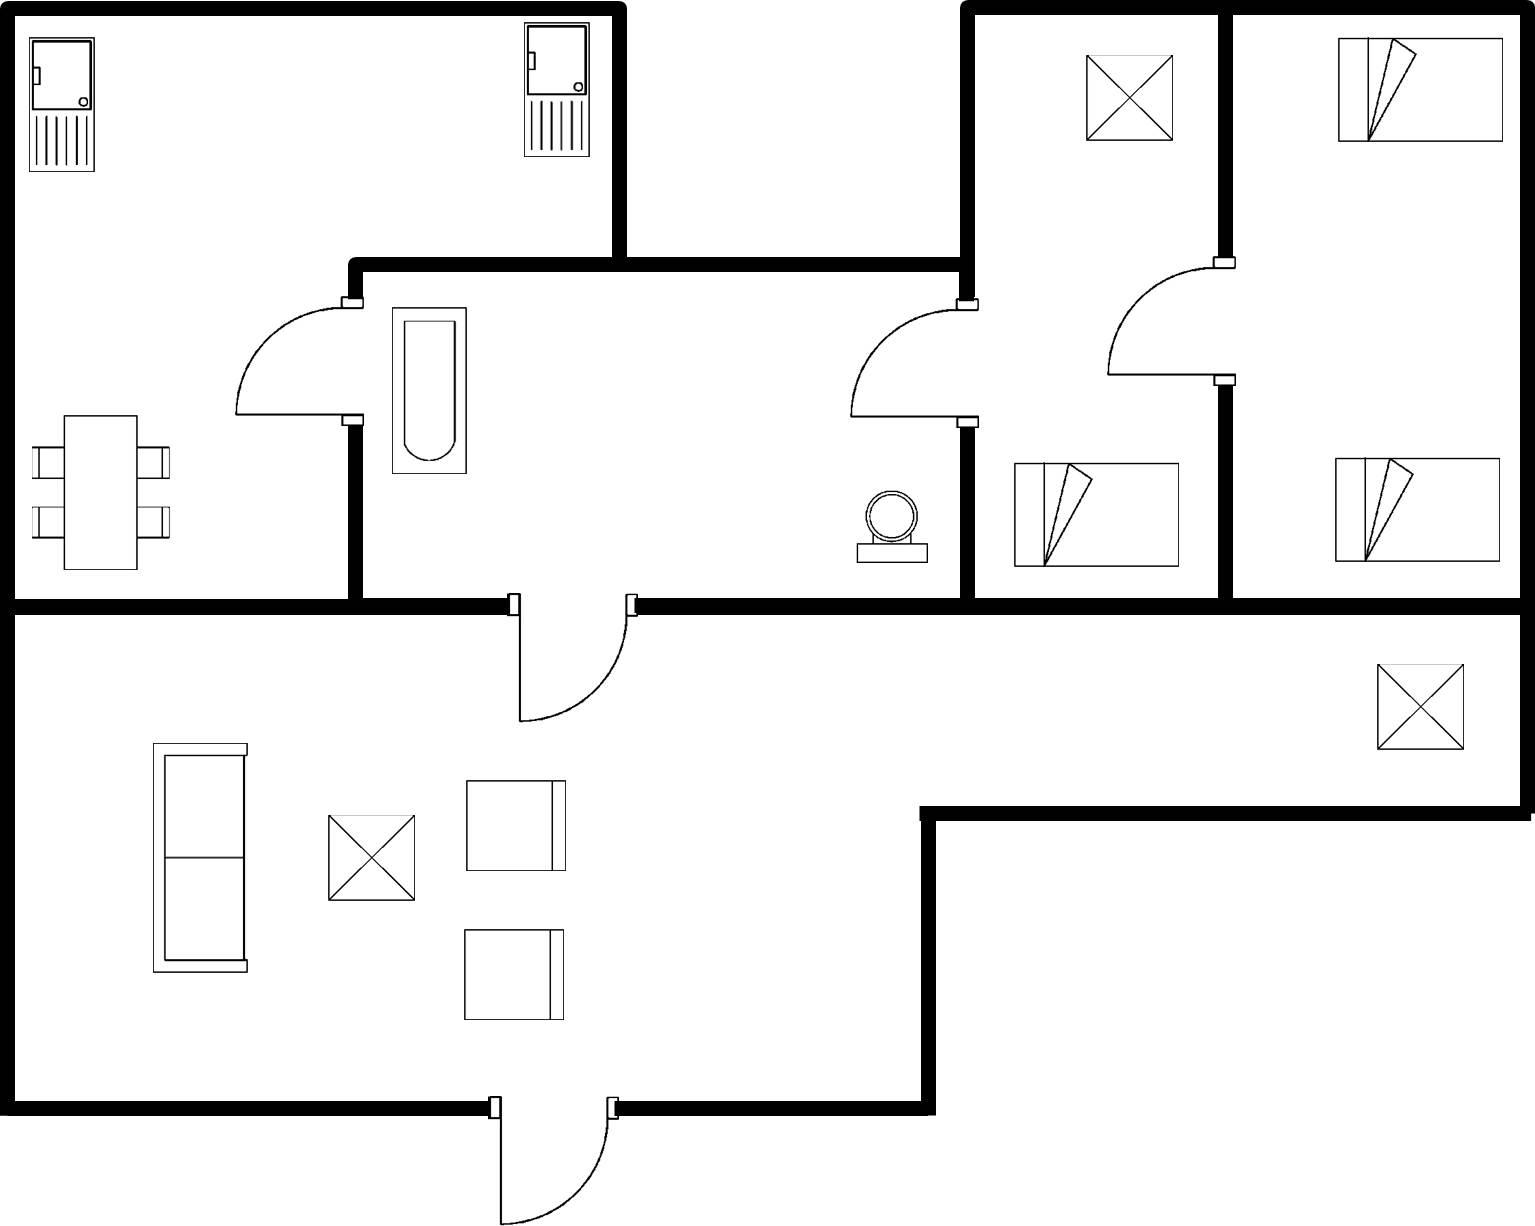bed: (1329, 29, 1511, 149), (1325, 448, 1506, 567), (1006, 453, 1187, 570)
dining_table: (23, 403, 176, 579)
sink: (21, 28, 106, 179), (515, 15, 598, 166)
sofa: (145, 732, 258, 983)
toilet: (844, 482, 940, 573)
tub: (380, 301, 480, 483)
